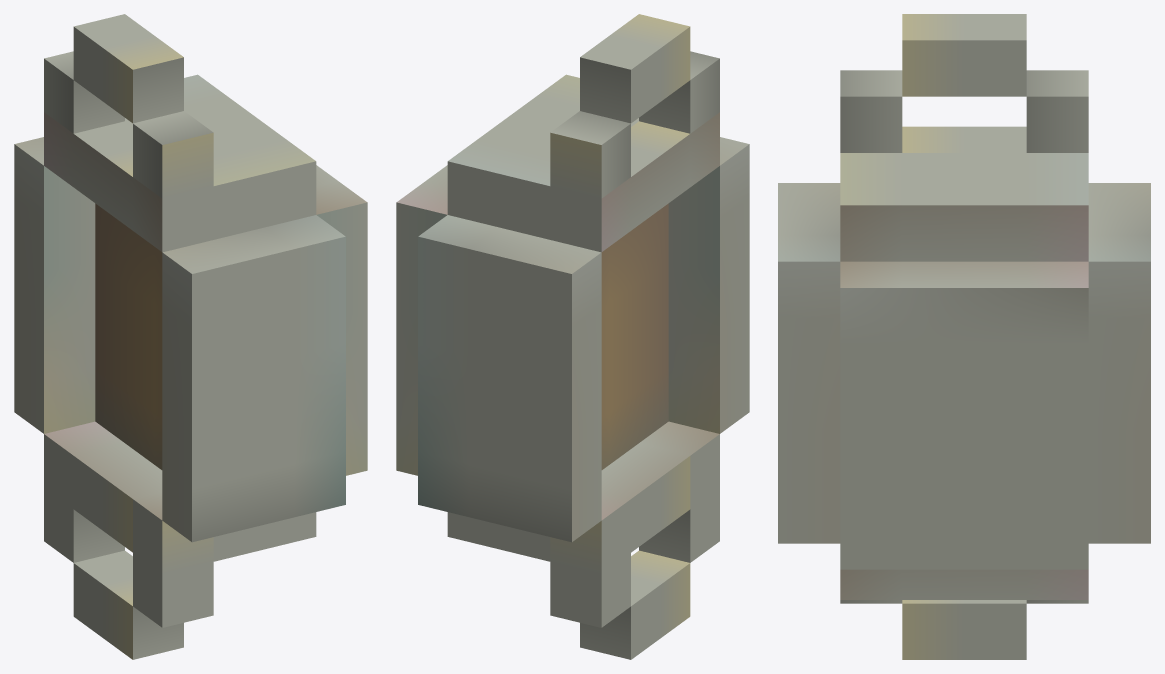
The model's file is PotWithFood_00.obj.
3 views of the same model, side by side, from view 1: azimuth 30°, elevation 25°; view 2: azimuth 150°, elevation 25°; view 3: azimuth 270°, elevation 25° (orthographic). The views are drawn at different scales.
Visible parts, largest first — view 1: PotWithFood_00; view 2: PotWithFood_00; view 3: PotWithFood_00.
Part boxes in pixels (x1=…): PotWithFood_00: x1=14, y1=14, x2=367, y2=659; PotWithFood_00: x1=396, y1=14, x2=749, y2=659; PotWithFood_00: x1=778, y1=14, x2=1150, y2=659.
Size of the model in its own units: 0.2 by 0.55 by 0.3.
